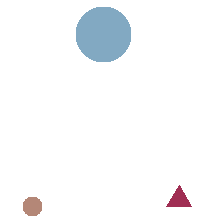circle: (76, 7, 130, 61), (23, 197, 41, 215)
triangle: (166, 185, 191, 206)
